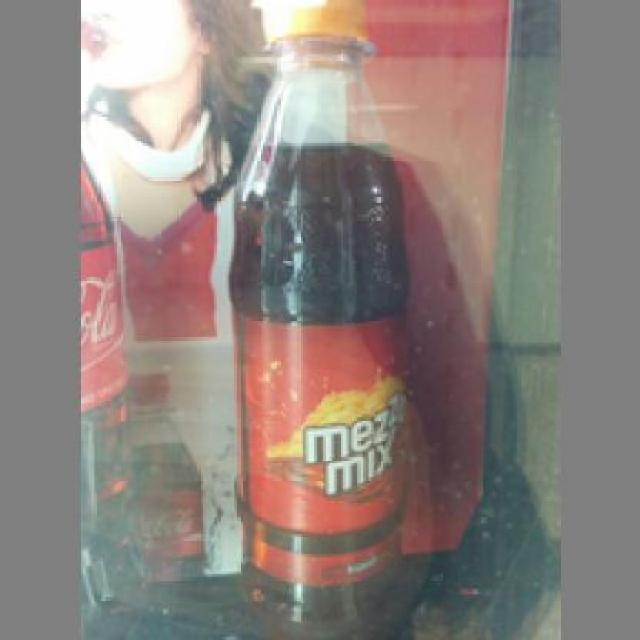Soda: (222, 0, 408, 637)
